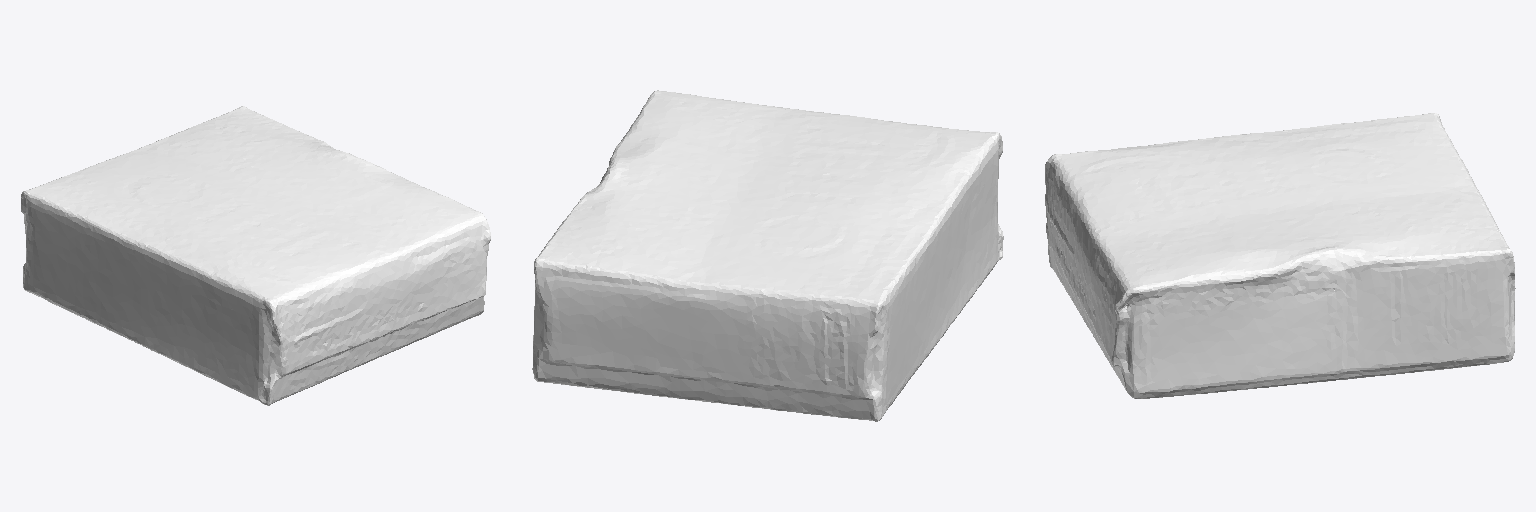
The robot description file, URDF, robot "009_gelatin_box_0":
<?xml version='1.0' encoding='utf-8'?>
<robot name="009_gelatin_box_0">
        <link name="link_0">
            <visual>
                <origin xyz="0.0 0.0 0.0" rpy="0.0 0.0 0.0" />
                <geometry>
                    <mesh filename="textured_objs/textured.obj" scale="1 1 1.0" />
                </geometry>
                <material name="white">
                    <color rgba="1 1 1 1" />
                </material>
            </visual>
            <collision>
                <origin xyz="0.0 0.0 0.0" rpy="0.0 0.0 0.0" />
                <geometry>
                    <mesh filename="textured_objs/textured.obj" scale="1 1 1.0" />
                </geometry>
            </collision>
            <inertial>
                <mass value="0.1" />
                <inertia ixx="0.0001" ixy="0.0" ixz="0.0" iyy="0.0001" iyz="0.0" izz="0.0001" />
            </inertial>
        </link>
    </robot>

--- Facts derived from the render (not from the file) ---
Views: 3 orthographic renders of the robot side by side, from view 1: azimuth 30°, elevation 25°; view 2: azimuth 150°, elevation 25°; view 3: azimuth 270°, elevation 25°.
Model 009_gelatin_box_0 with 1 links and 0 joints (none), rooted at link_0, posed every joint at zero.
Links seen in each view (by area): view 1: link_0; view 2: link_0; view 3: link_0.
Link boxes in pixels (x1,y1,x2,y2): link_0: (21,106,490,405); link_0: (532,90,1003,421); link_0: (1045,113,1515,398).
Size in the robot's own frame: 0.0894 by 0.1011 by 0.0301 metres.
Meshes: 1 distinct files referenced, 1 mesh visuals loaded (1 OBJ).